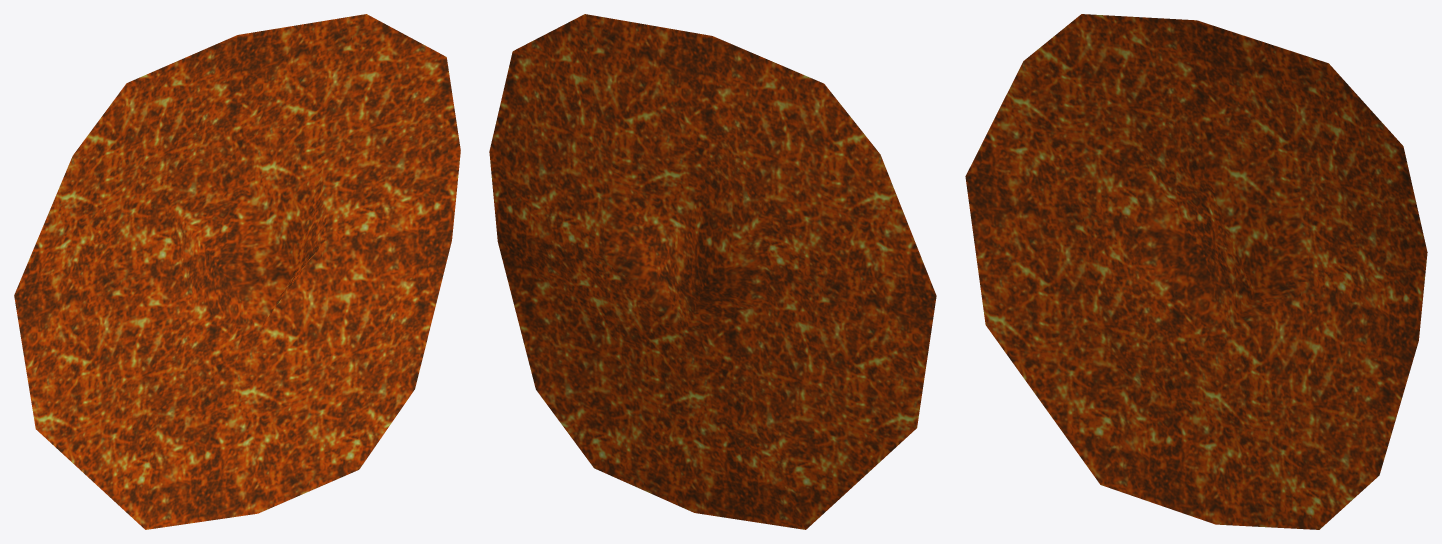
The model's file is AEP_Lava_01.fbx.
3 views of the same model, side by side, from view 1: azimuth 30°, elevation 25°; view 2: azimuth 150°, elevation 25°; view 3: azimuth 330°, elevation 25° (orthographic). The views are drawn at different scales.
Visible parts, largest first — view 1: AEP_Lava; view 2: AEP_Lava; view 3: AEP_Lava.
Part boxes in pixels (bbox=[...]): AEP_Lava: bbox=[14, 14, 460, 529]; AEP_Lava: bbox=[489, 14, 936, 529]; AEP_Lava: bbox=[965, 14, 1427, 529].
Size of the model in its own units: 43.16 by 44.53 by 2.84.
